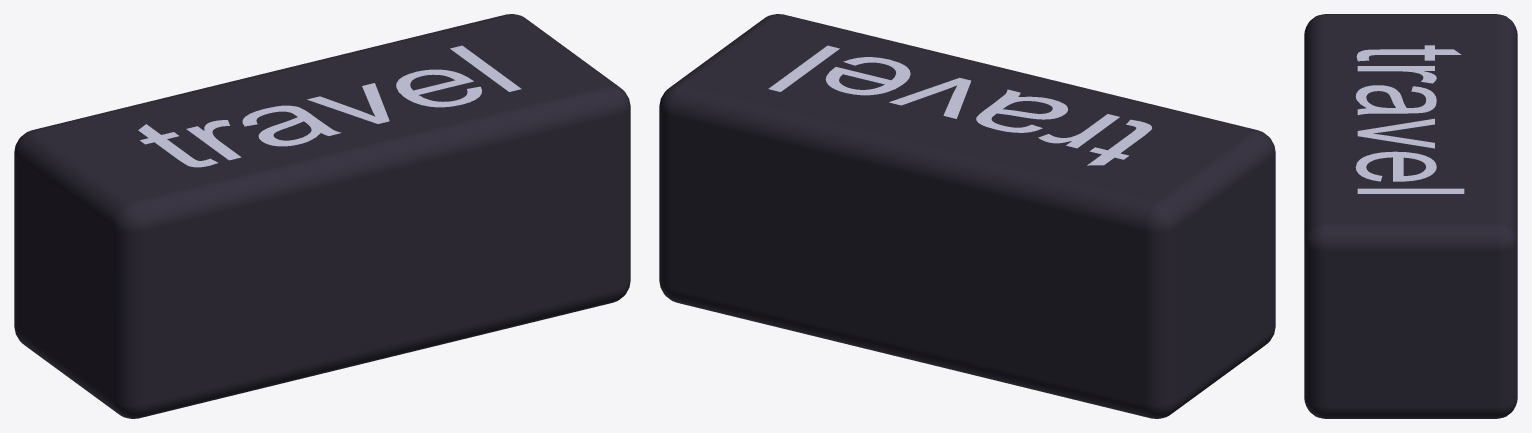
File: travel.glb
The picture shows the model from 3 angles, left to right: view 1: azimuth 30°, elevation 25°; view 2: azimuth 150°, elevation 25°; view 3: azimuth 270°, elevation 25°; orthographic projection. The views are drawn at different scales.
Visible parts, largest first — view 1: Cut, Extrude; view 2: Cut, Extrude; view 3: Cut, Extrude.
Part boxes in pixels (bbox=[...]): Cut: bbox=[14, 14, 630, 418]; Extrude: bbox=[138, 45, 521, 167]; Cut: bbox=[659, 14, 1275, 418]; Extrude: bbox=[768, 45, 1151, 165]; Cut: bbox=[1304, 14, 1517, 418]; Extrude: bbox=[1355, 45, 1464, 193].
Bounding box in the file's own units: 5 × 2 × 2.
